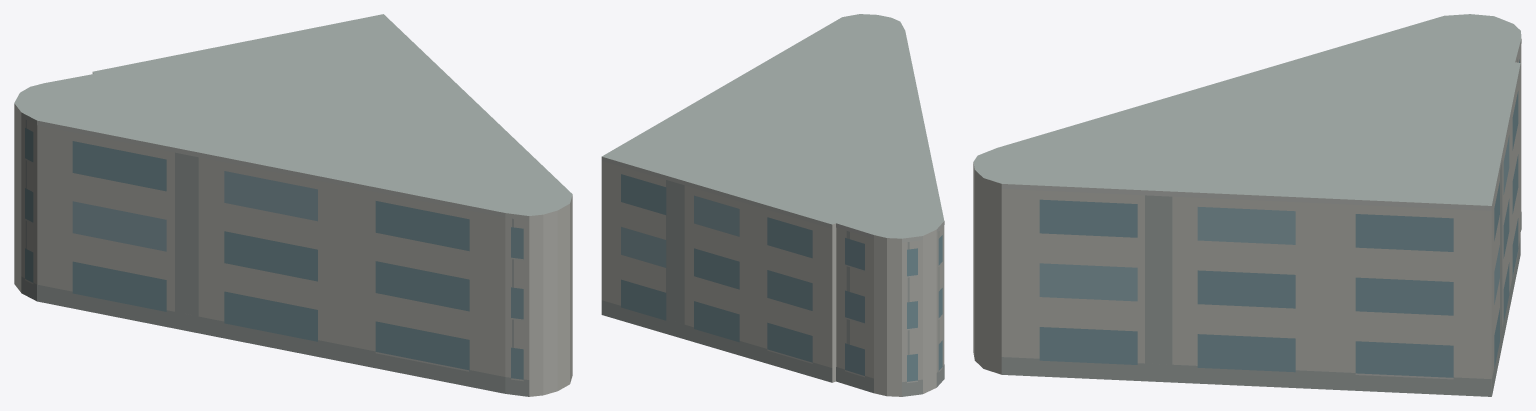
Rendered from survey-upis-32897953.glb.
3 views of the same model, side by side, from view 1: azimuth 30°, elevation 25°; view 2: azimuth 150°, elevation 25°; view 3: azimuth 270°, elevation 25° (orthographic). The views are drawn at different scales.
Visible parts, largest first — view 1: survey-upis-32897953.tmp; view 2: survey-upis-32897953.tmp; view 3: survey-upis-32897953.tmp.
Boxes of the visible parts, left/top/right/bottom form: survey-upis-32897953.tmp: left=14, top=14, right=572, bottom=396; survey-upis-32897953.tmp: left=601, top=14, right=944, bottom=396; survey-upis-32897953.tmp: left=973, top=14, right=1521, bottom=396.
Size of the model in its own units: 19.74 by 9.15 by 23.81.
